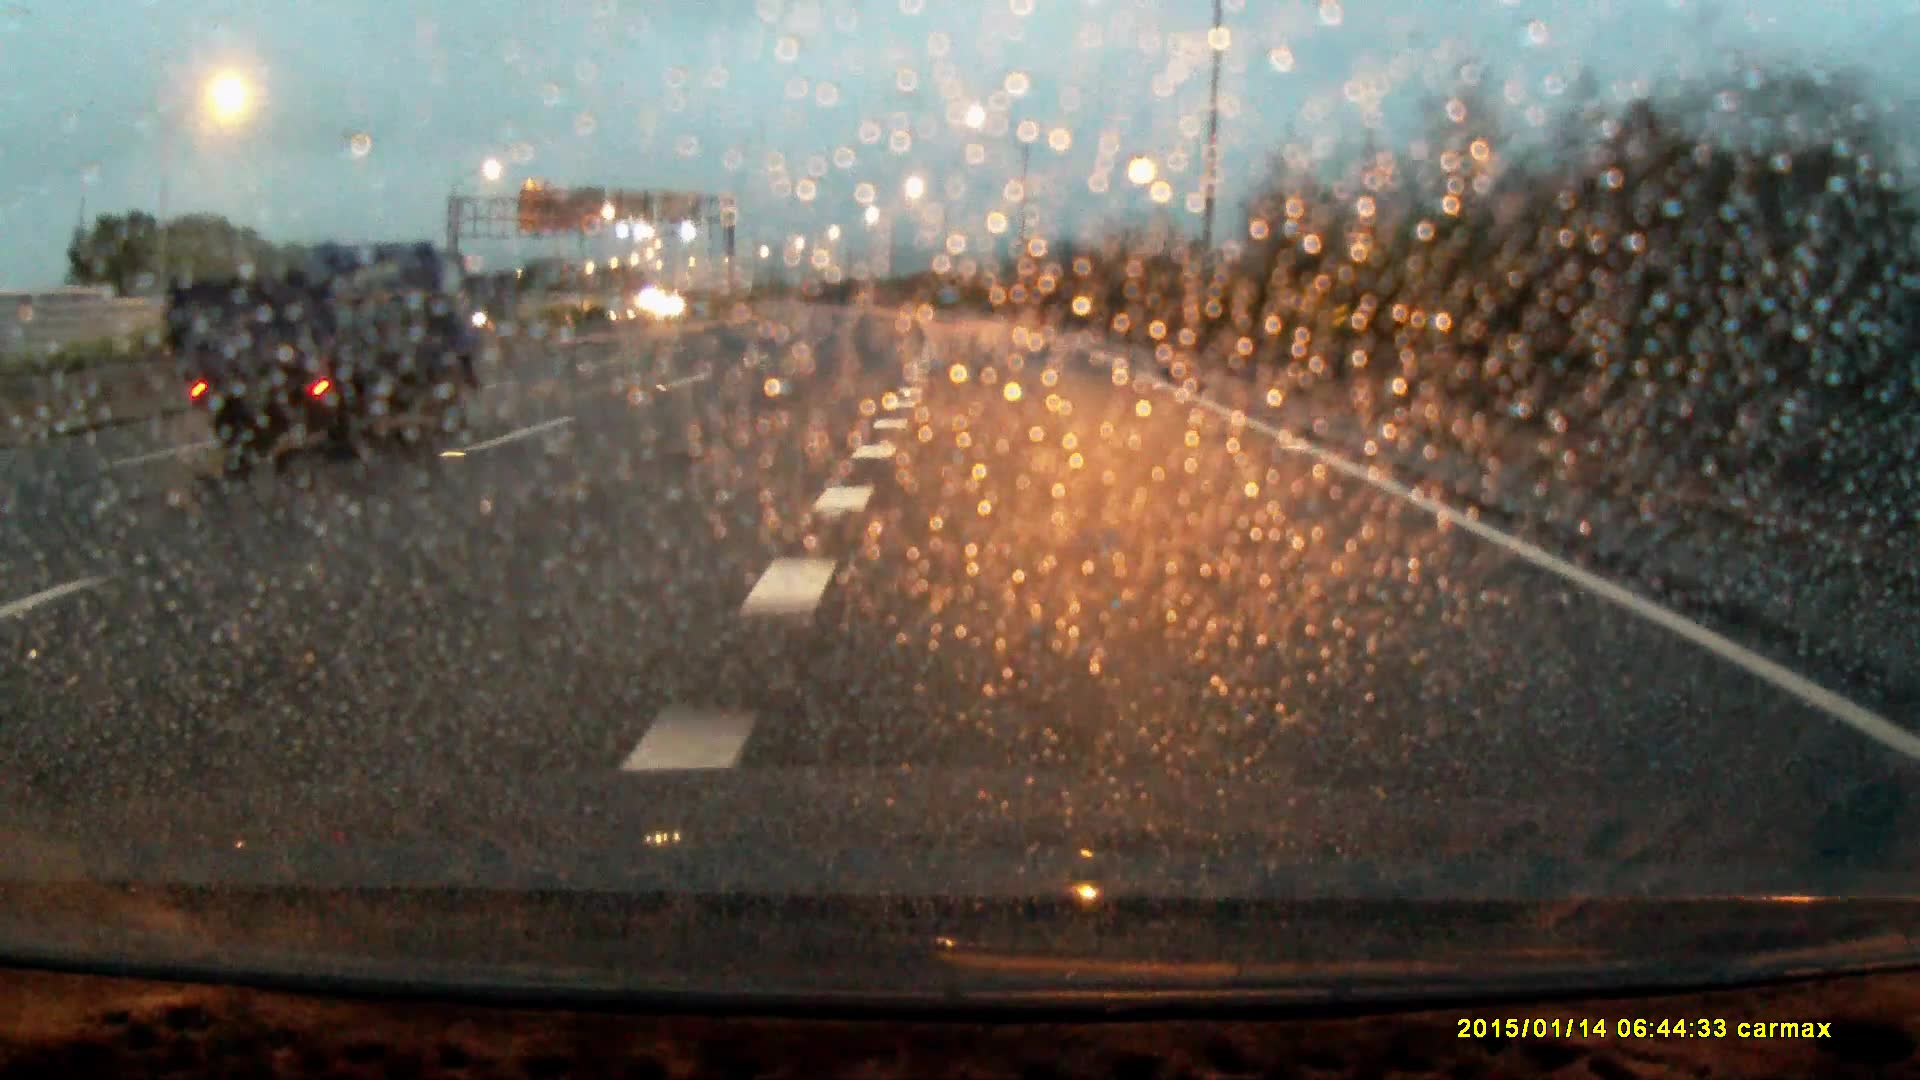vehicle: (179, 232, 465, 467)
